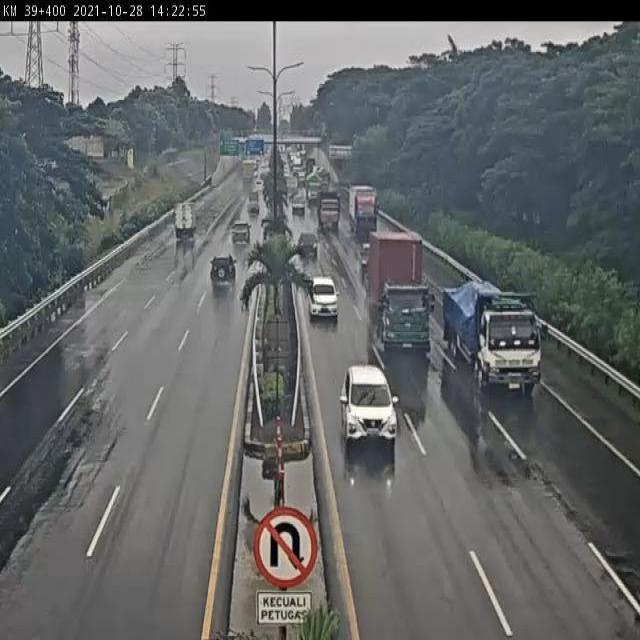truck-s-: (174, 201, 193, 236)
truck-xl-: (441, 276, 545, 400), (365, 227, 433, 360)
